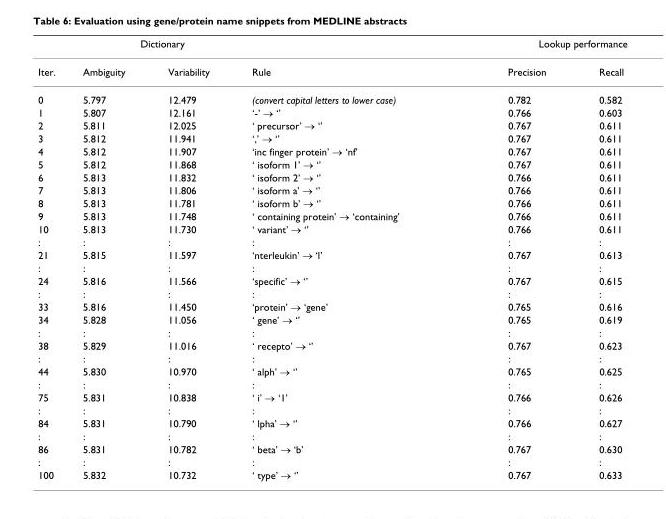table: (37, 37, 626, 480)
table column: (229, 37, 453, 480), (453, 37, 571, 480), (145, 37, 229, 480), (68, 37, 145, 480), (571, 37, 626, 480), (37, 37, 68, 480)
table column header: (37, 37, 626, 85)
table row: (37, 57, 626, 85), (37, 37, 626, 57), (37, 85, 626, 105), (37, 221, 626, 235), (37, 389, 626, 403), (37, 415, 626, 429), (37, 441, 626, 455), (37, 105, 626, 118), (37, 118, 626, 131), (37, 143, 626, 156), (37, 156, 626, 169), (37, 169, 626, 182), (37, 182, 626, 195), (37, 195, 626, 208), (37, 208, 626, 221), (37, 247, 626, 260), (37, 260, 626, 273), (37, 273, 626, 286), (37, 286, 626, 299), (37, 299, 626, 312), (37, 312, 626, 325), (37, 325, 626, 338), (37, 338, 626, 351), (37, 351, 626, 364), (37, 364, 626, 377), (37, 467, 626, 480), (37, 131, 626, 143), (37, 235, 626, 247), (37, 377, 626, 389), (37, 403, 626, 415), (37, 429, 626, 441), (37, 455, 626, 467)
table spanning cell: (229, 37, 453, 85), (453, 37, 626, 57), (68, 37, 229, 57), (37, 37, 68, 85)
